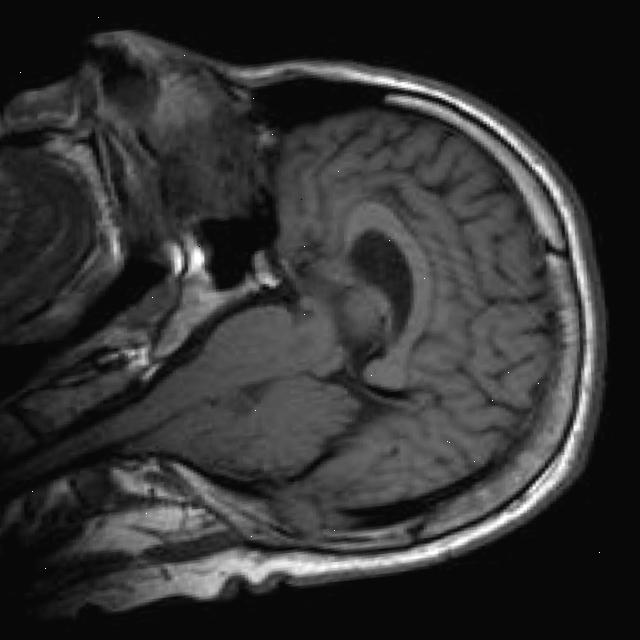NoTumor: (81, 23, 638, 608)
